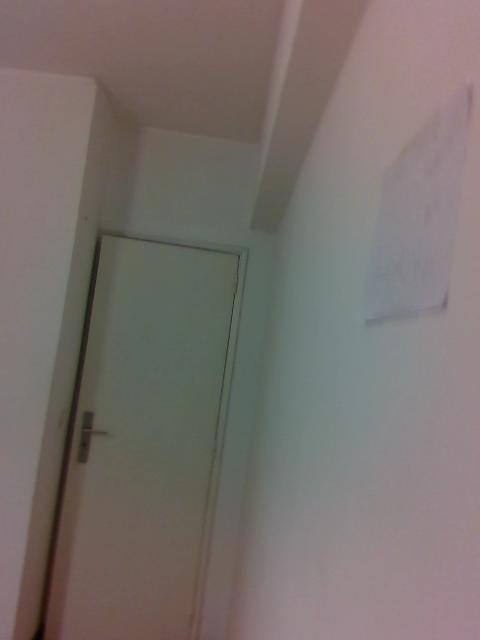door: (41, 233, 241, 634)
